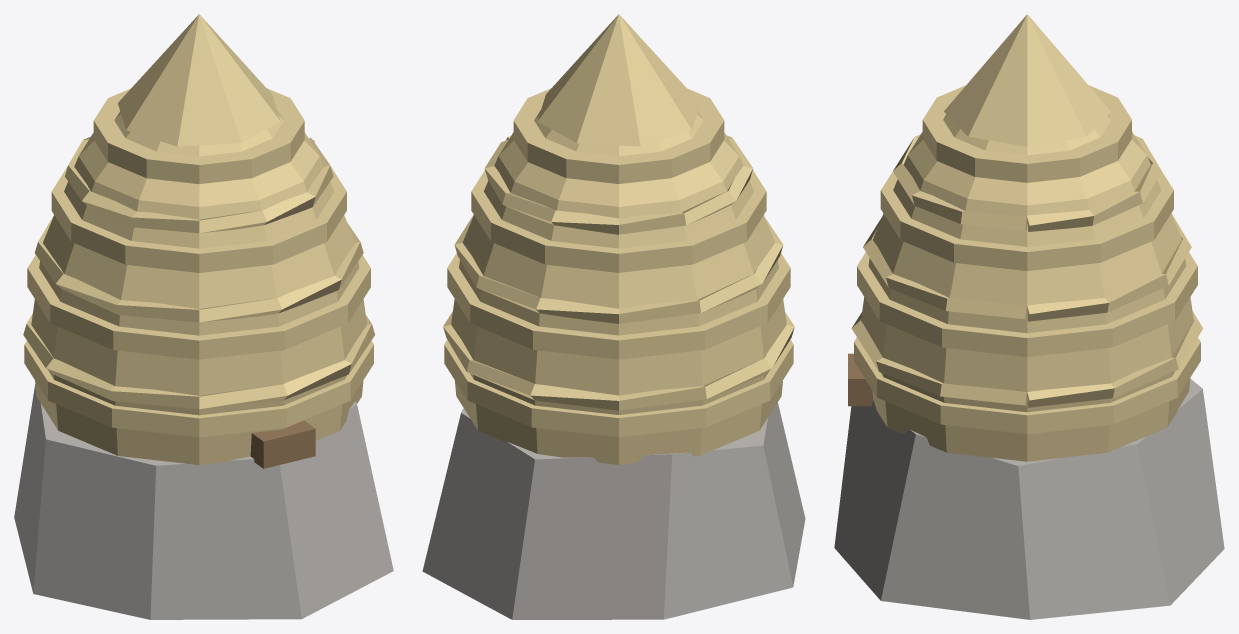
File: building_bee_skep_complete.glb
The picture shows the model from 3 angles, left to right: view 1: azimuth 30°, elevation 25°; view 2: azimuth 150°, elevation 25°; view 3: azimuth 270°, elevation 25°; orthographic projection.
Parts seen in each view (by area): view 1: building_bee_skep_complete; view 2: building_bee_skep_complete; view 3: building_bee_skep_complete.
Part boxes in pixels (left/top/right/bottom): building_bee_skep_complete: left=14, top=14, right=393, bottom=619; building_bee_skep_complete: left=422, top=14, right=805, bottom=619; building_bee_skep_complete: left=834, top=14, right=1224, bottom=619.
Size of the model in its own units: 0.6324 by 0.98 by 0.6523.
